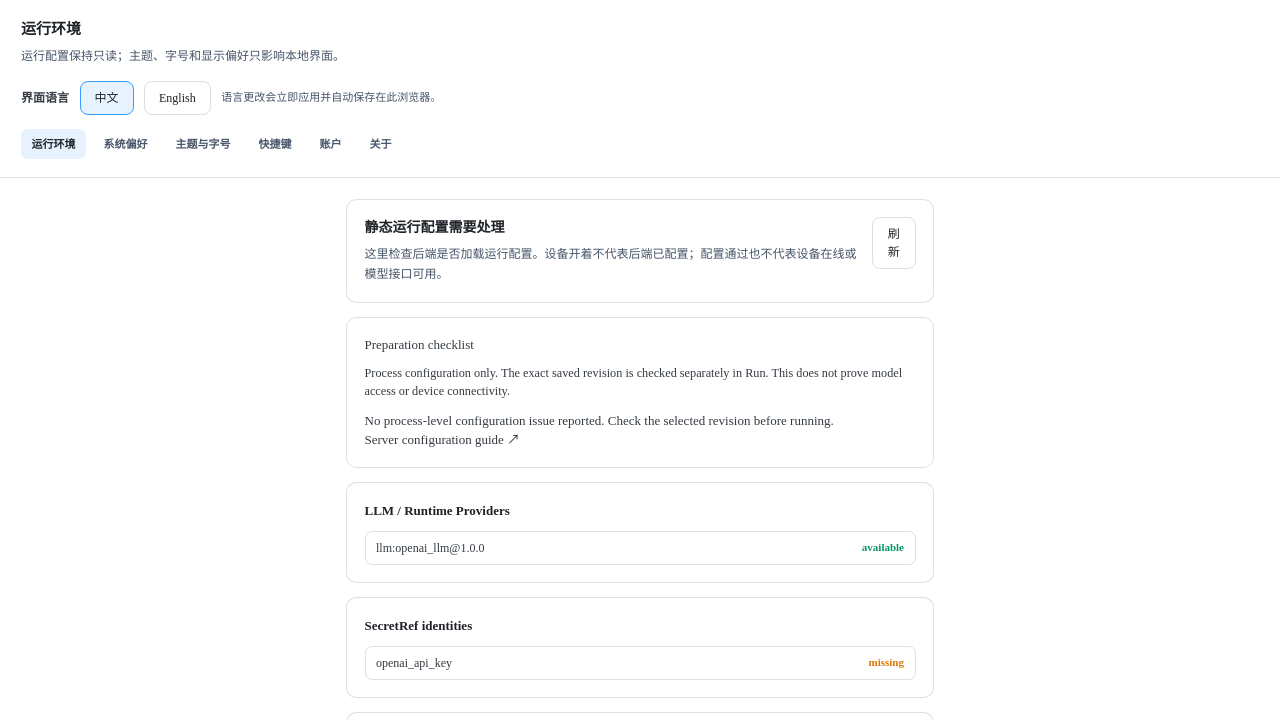
Settings runtime environment › refreshes the process projection after a service restart
Click the button "刷新" at (894,243), box x1=872 y1=217 x2=916 y2=269
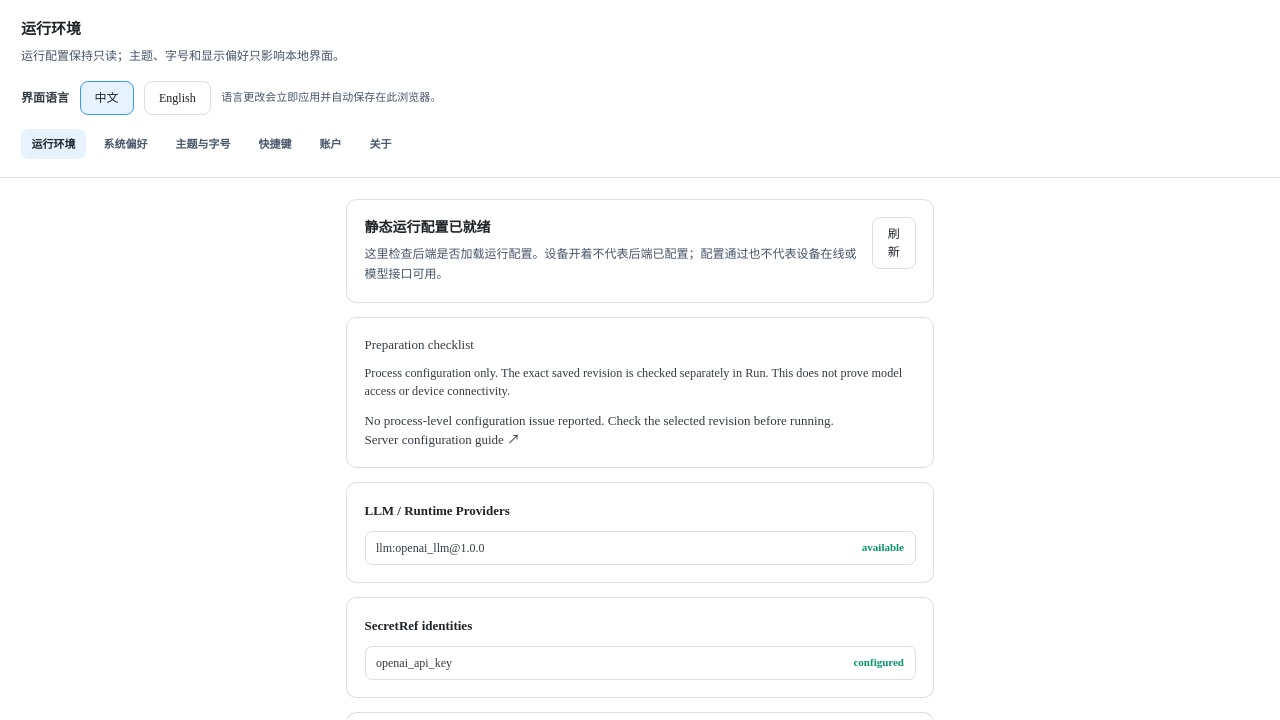
Check: the text "configured" is shown, box x1=854 y1=654 x2=904 y2=671
Check: the heading "静态运行配置已就绪" is shown, box x1=364 y1=220 x2=490 y2=235
